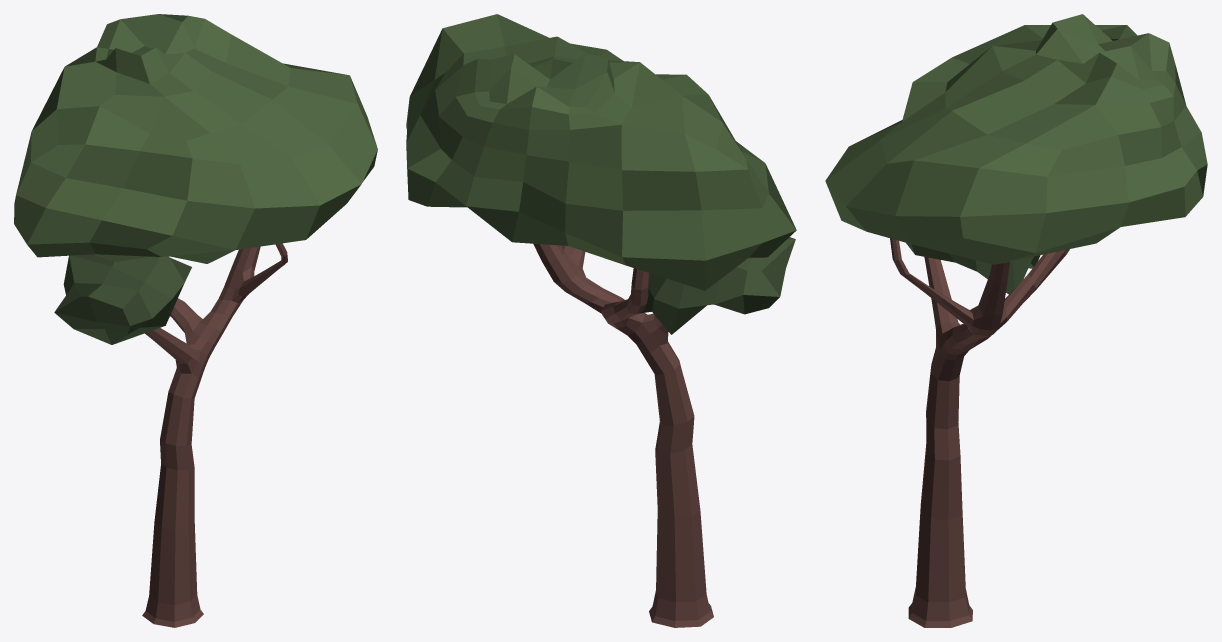
File: apple_harvested.gltf
3 renders of one model, left to right at view 1: azimuth 30°, elevation 25°; view 2: azimuth 150°, elevation 25°; view 3: azimuth 270°, elevation 25°, orthographic. The views are drawn at different scales.
Parts seen in each view (by area): view 1: apple_harvested; view 2: apple_harvested; view 3: apple_harvested.
Boxes of the visible parts, x1,y1,x2,y2 form: apple_harvested: (14,14,377,627); apple_harvested: (406,14,796,627); apple_harvested: (825,14,1207,627).
Size of the model in its own units: 1.8 by 2.76 by 1.58.
Materials: 1 (1 with a texture image).
